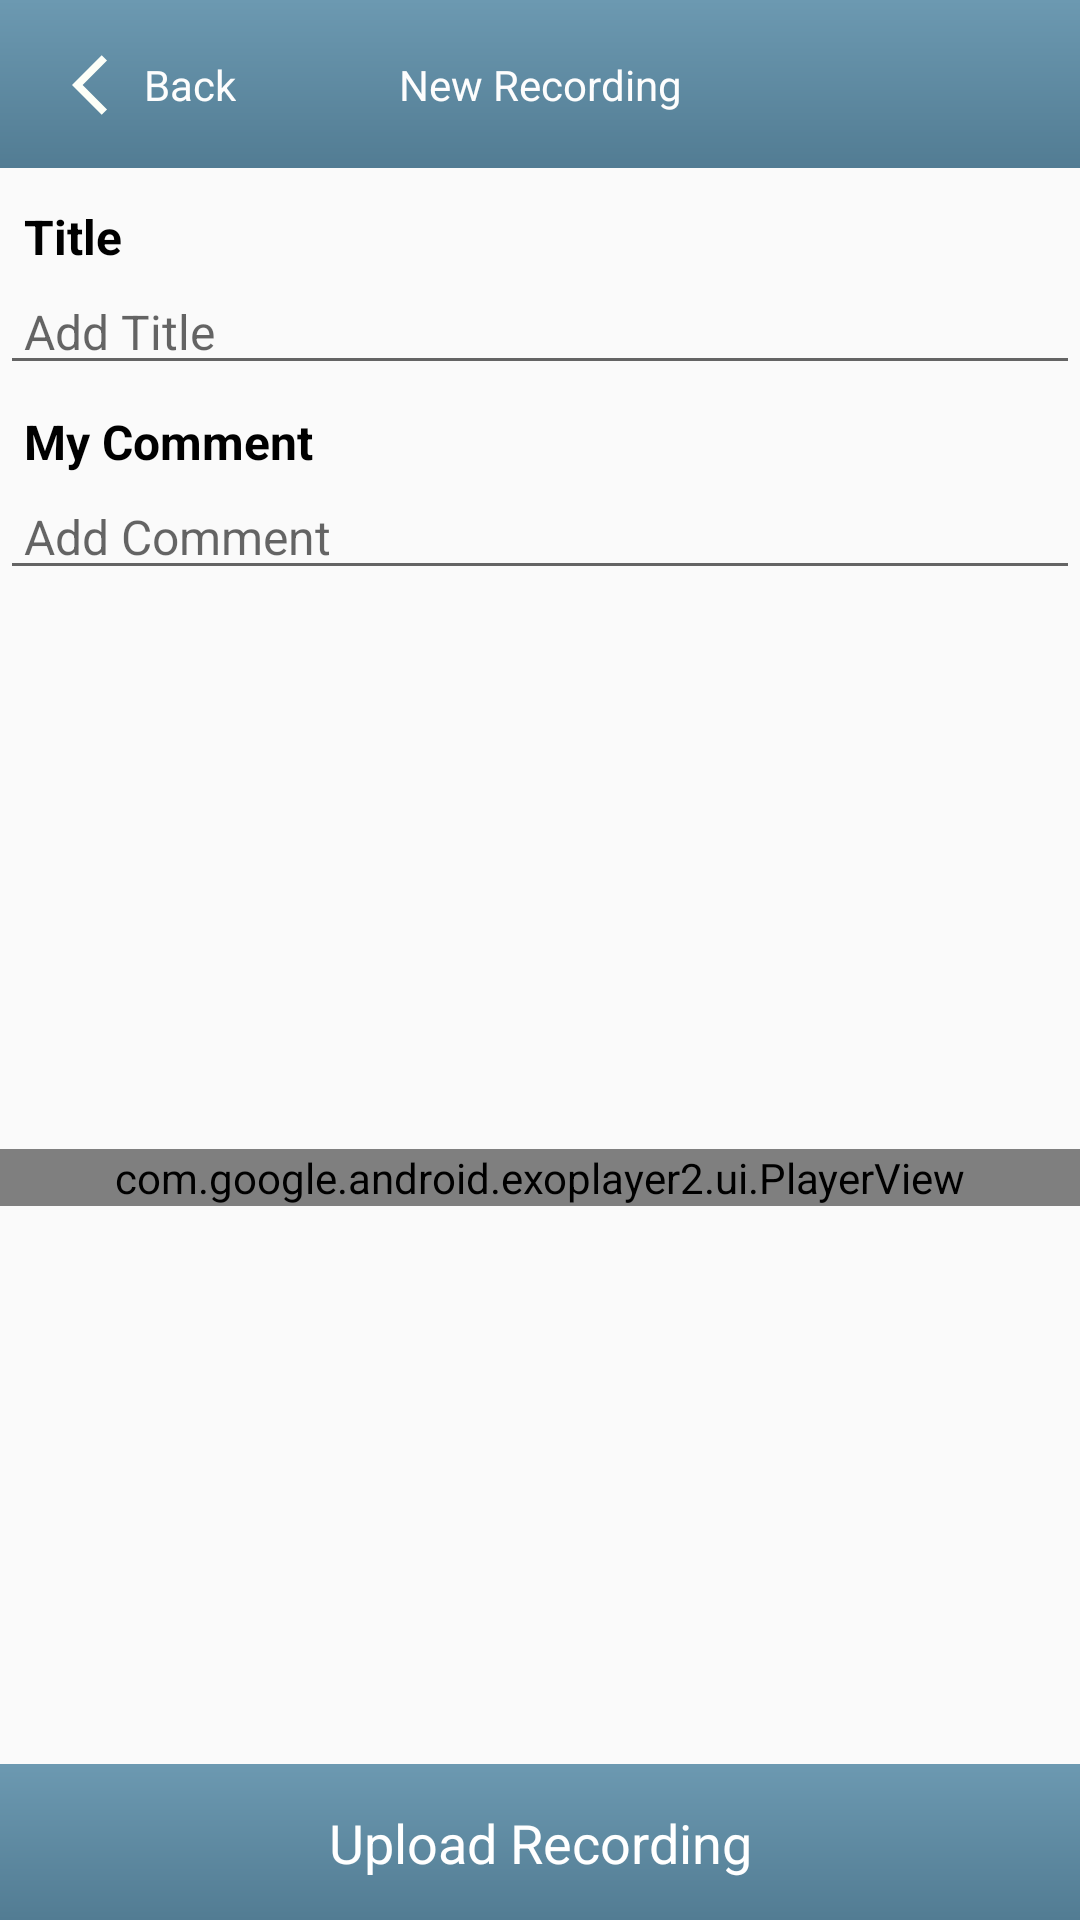

Locate icon controls on the screen. Image size 1080 x 1920, boxes as (x1, y1, x2, y2).
arrow: (72, 55, 107, 115)
